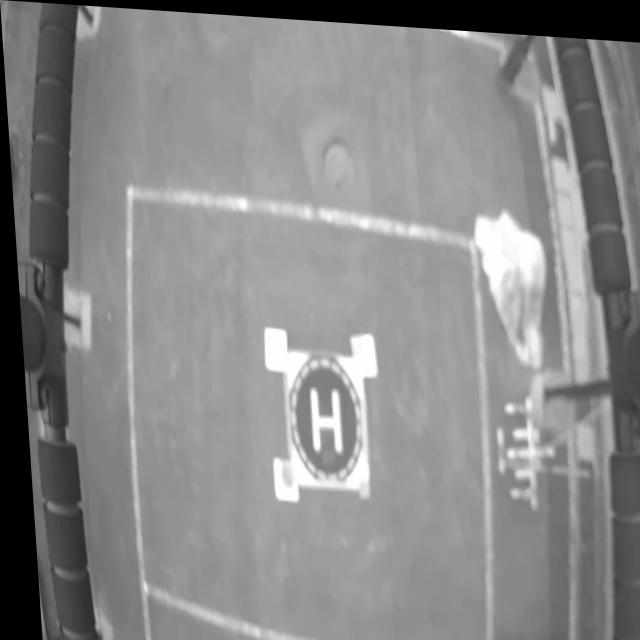Helipad: (306, 386, 338, 449)
